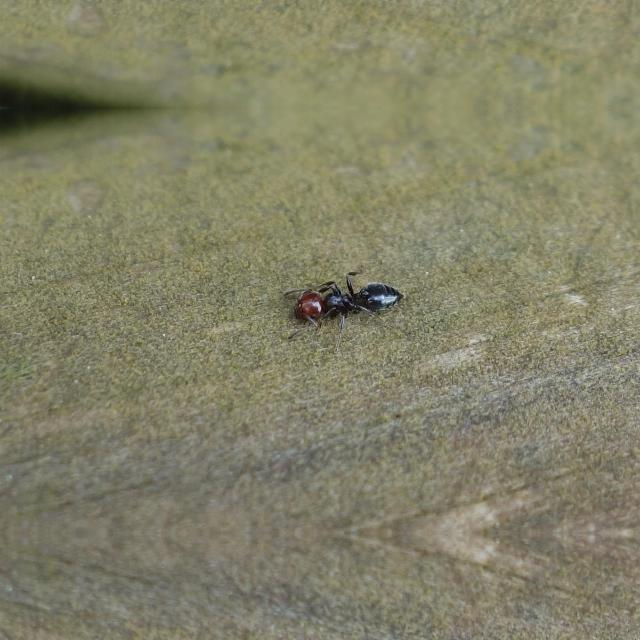Crematogaster: (284, 275, 410, 333)
